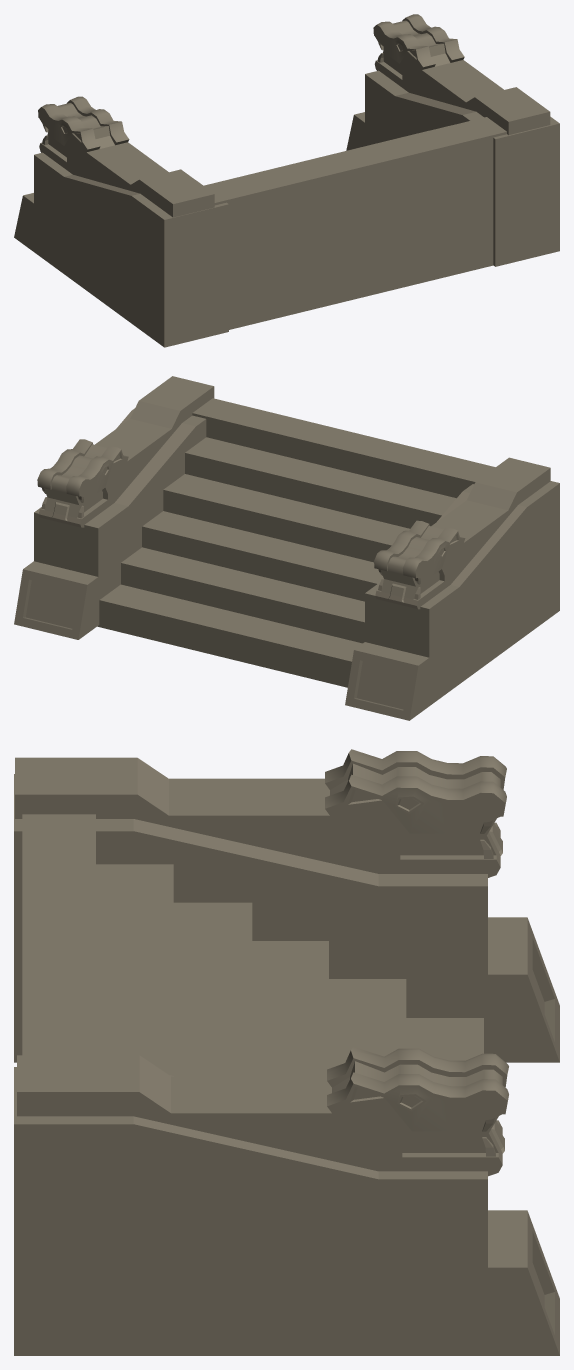
The model's file is TempleStair_B.fbx.
3 renders of one model, top to bottom at view 1: azimuth 30°, elevation 25°; view 2: azimuth 150°, elevation 25°; view 3: azimuth 270°, elevation 25°, orthographic. The views are drawn at different scales.
Parts seen in each view (by area): view 1: TempleStair_B03, TempleStair_B01, TempleStair_B02; view 2: TempleStair_B03, TempleStair_B01, TempleStair_B02; view 3: TempleStair_B01, TempleStair_B02, TempleStair_B03.
Part boxes in pixels (x1,y1,x2,y2): TempleStair_B03: [204, 117, 506, 329]; TempleStair_B01: [14, 70, 559, 347]; TempleStair_B02: [38, 14, 550, 217]; TempleStair_B03: [97, 398, 495, 687]; TempleStair_B01: [14, 408, 559, 720]; TempleStair_B02: [37, 376, 550, 609]; TempleStair_B01: [14, 774, 559, 1355]; TempleStair_B02: [15, 749, 508, 1176]; TempleStair_B03: [22, 814, 483, 1076].
Bounding box in the file's own units: 641 × 230 × 423.
